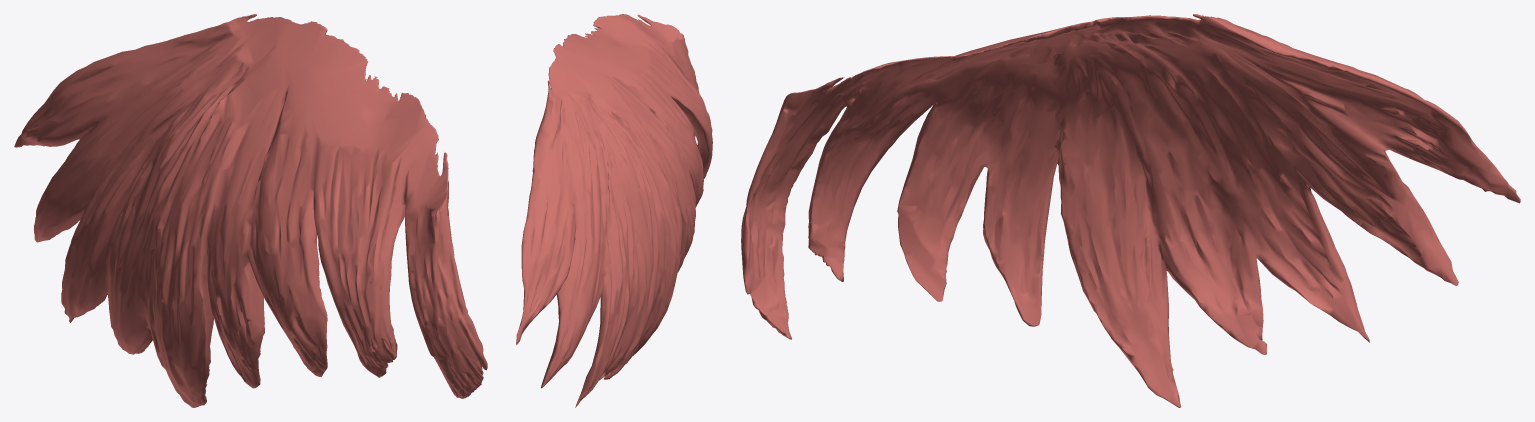
The picture shows the model from 3 angles, left to right: view 1: azimuth 30°, elevation 25°; view 2: azimuth 150°, elevation 25°; view 3: azimuth 270°, elevation 25°; orthographic projection. The views are drawn at different scales.
Visible parts, largest first — view 1: 右侧前锯肌; view 2: 右侧前锯肌; view 3: 右侧前锯肌.
Boxes of the visible parts, x1,y1,x2,y2 form: 右侧前锯肌: (14, 14, 487, 407); 右侧前锯肌: (516, 14, 712, 407); 右侧前锯肌: (741, 14, 1520, 407).
Size of the model in its own units: 0.1275 by 0.2536 by 0.4047.
